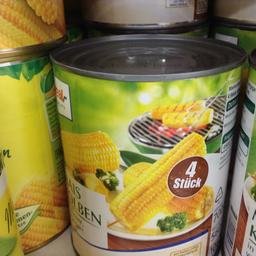corn: (47, 32, 247, 254)
